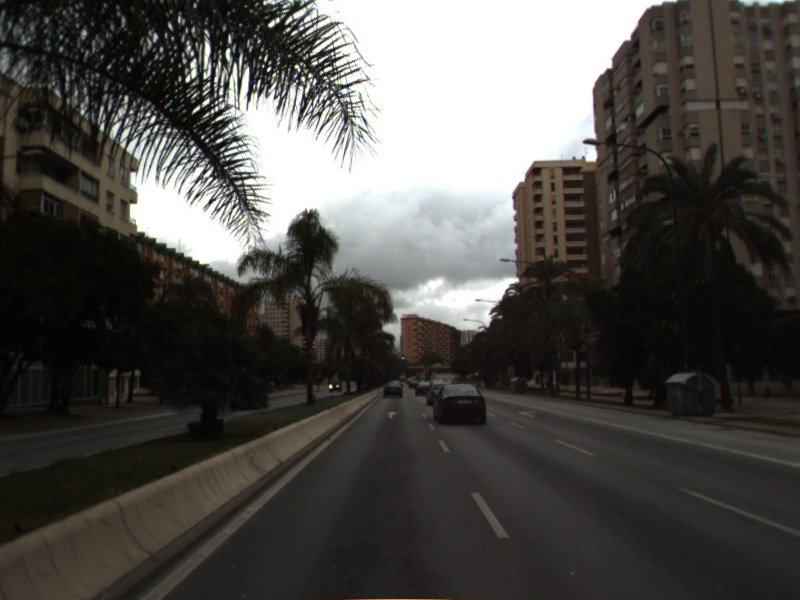RIGHT: (515, 408, 541, 420)
STRAIGHT: (383, 409, 402, 421)
